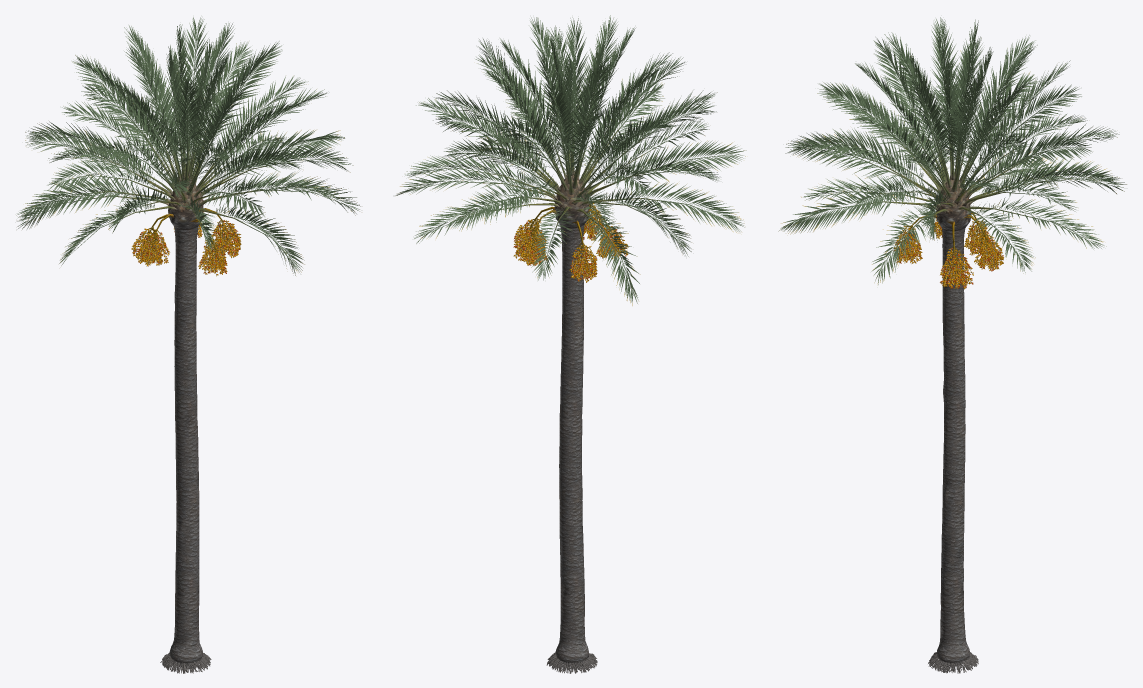
Rendered from Phoenix dactylifera HD_Urban mat 75_LOD2.fbx.
3 views of the same model, side by side, from view 1: azimuth 30°, elevation 25°; view 2: azimuth 150°, elevation 25°; view 3: azimuth 270°, elevation 25° (orthographic).
Parts seen in each view (by area): view 1: Phoenix_dactylifera_HD; view 2: Phoenix_dactylifera_HD; view 3: Phoenix_dactylifera_HD.
Boxes of the visible parts, x1,y1,x2,y2 form: Phoenix_dactylifera_HD: [16, 17, 360, 673]; Phoenix_dactylifera_HD: [395, 15, 746, 673]; Phoenix_dactylifera_HD: [778, 17, 1126, 673].
Size of the model in its own units: 6.99 by 13.93 by 7.08.
10 materials, 10 textured.
